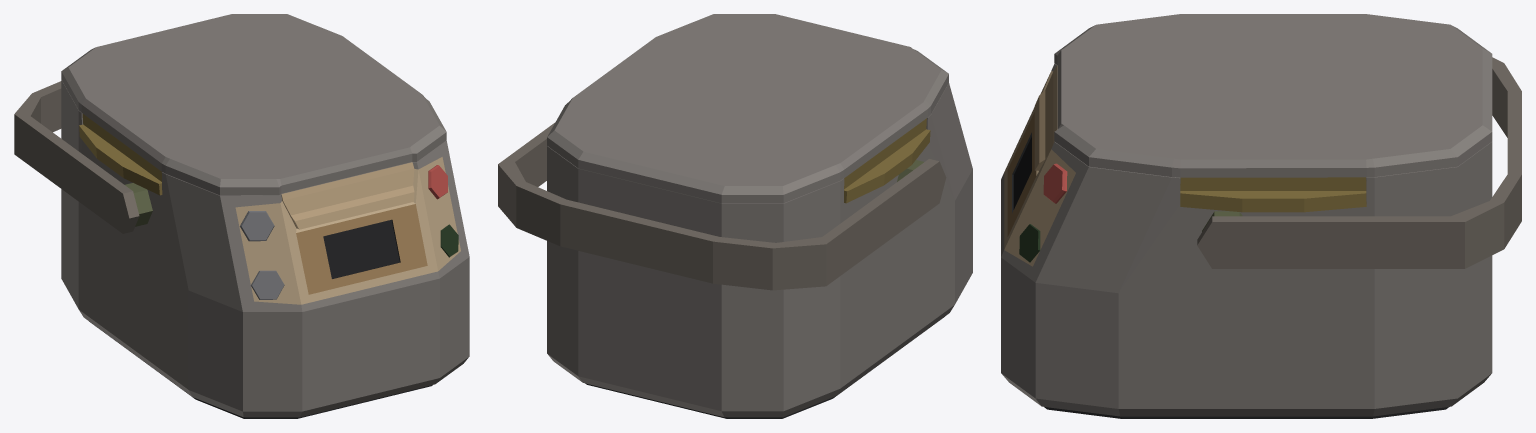
File: ricecooker_01_A.gltf
3 views of the same model, side by side, from view 1: azimuth 30°, elevation 25°; view 2: azimuth 150°, elevation 25°; view 3: azimuth 270°, elevation 25° (orthographic). The views are drawn at different scales.
Parts seen in each view (by area): view 1: ricecooker_01_A, Capforricecooker_01_A, carryhandle_01_A, openingmechanism_01_A, Pen_01_A, buttontop_01_A, buttonbot_01_A, buttonSTOP_01_A, buttonSTART_01_A; view 2: ricecooker_01_A, Capforricecooker_01_A, carryhandle_01_A, Pen_01_A; view 3: ricecooker_01_A, Capforricecooker_01_A, carryhandle_01_A, Pen_01_A, openingmechanism_01_A, buttonSTOP_01_A, buttonSTART_01_A.
Boxes of the visible parts, x1,y1,x2,y2 form: ricecooker_01_A: (61,80,469,418); Capforricecooker_01_A: (61,14,446,195); carryhandle_01_A: (14,81,152,233); openingmechanism_01_A: (281,162,414,229); Pen_01_A: (79,114,162,195); buttontop_01_A: (240,211,274,241); buttonbot_01_A: (251,270,284,299); buttonSTOP_01_A: (428,165,447,199); buttonSTART_01_A: (440,224,458,257); ricecooker_01_A: (547,83,972,418); Capforricecooker_01_A: (547,14,948,203); carryhandle_01_A: (498,122,946,290); Pen_01_A: (844,118,930,203); ricecooker_01_A: (1001,63,1492,418); Capforricecooker_01_A: (1054,14,1492,177); carryhandle_01_A: (1197,57,1521,268); Pen_01_A: (1180,177,1366,212); openingmechanism_01_A: (1034,66,1057,170); buttonSTOP_01_A: (1043,163,1067,203); buttonSTART_01_A: (1019,224,1040,262).
Size of the model in its own units: 0.3587 by 0.2454 by 0.442.
1 material, 1 textured.
